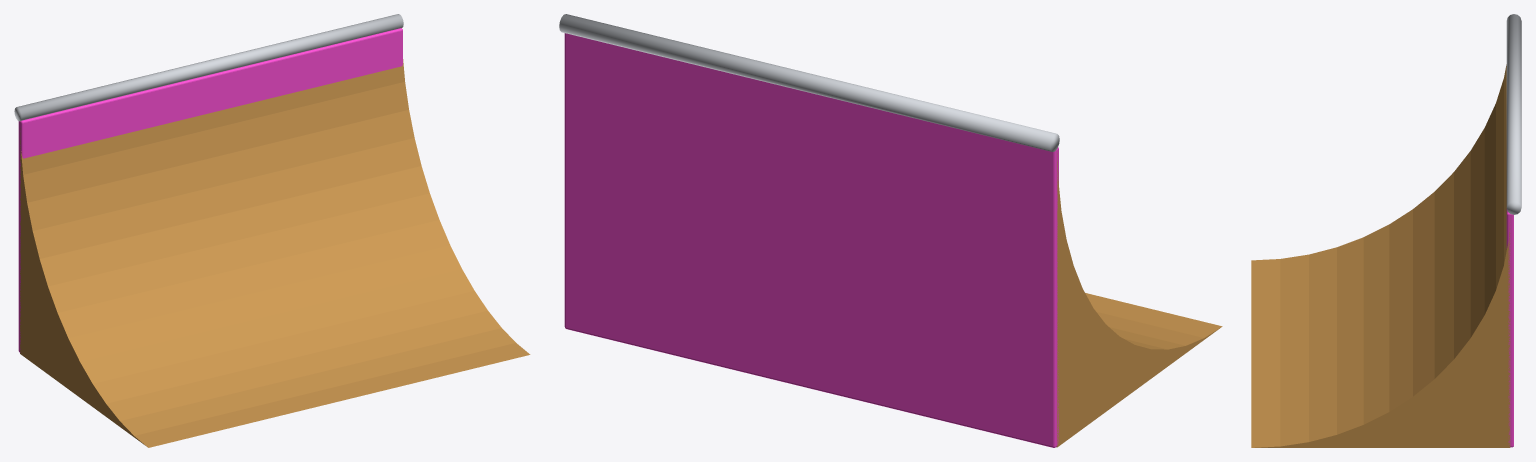
Rendered from Street_QuarterPipe.fbx.
3 views of the same model, side by side, from view 1: azimuth 30°, elevation 25°; view 2: azimuth 150°, elevation 25°; view 3: azimuth 270°, elevation 25° (orthographic). The views are drawn at different scales.
Visible parts, largest first — view 1: Street_QuarterPipe; view 2: Street_QuarterPipe; view 3: Street_QuarterPipe.
Part boxes in pixels (x1=…): Street_QuarterPipe: x1=14, y1=14, x2=530, y2=447; Street_QuarterPipe: x1=559, y1=14, x2=1222, y2=447; Street_QuarterPipe: x1=1251, y1=14, x2=1521, y2=447.
Size of the model in its own units: 2.4 by 1.47 by 1.46.
